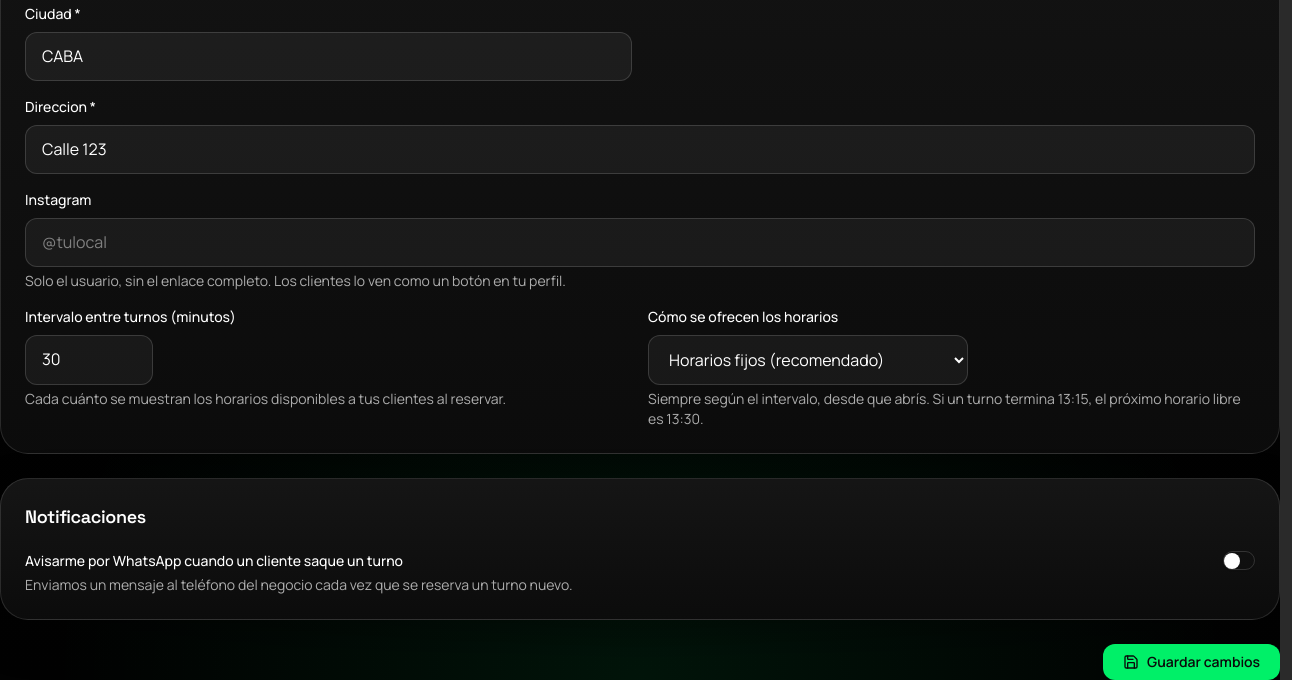
LocalProfilePage WhatsApp notification toggle › shows a Spanish error when the backend rejects the phone
(page scrolled)
What coordinates should you click on to do the following:
click the switch named "Avisarme por WhatsApp cuando un cliente saque un turno"
I would click on:
 (1239, 560)
Its box is [1223,551,1255,570].
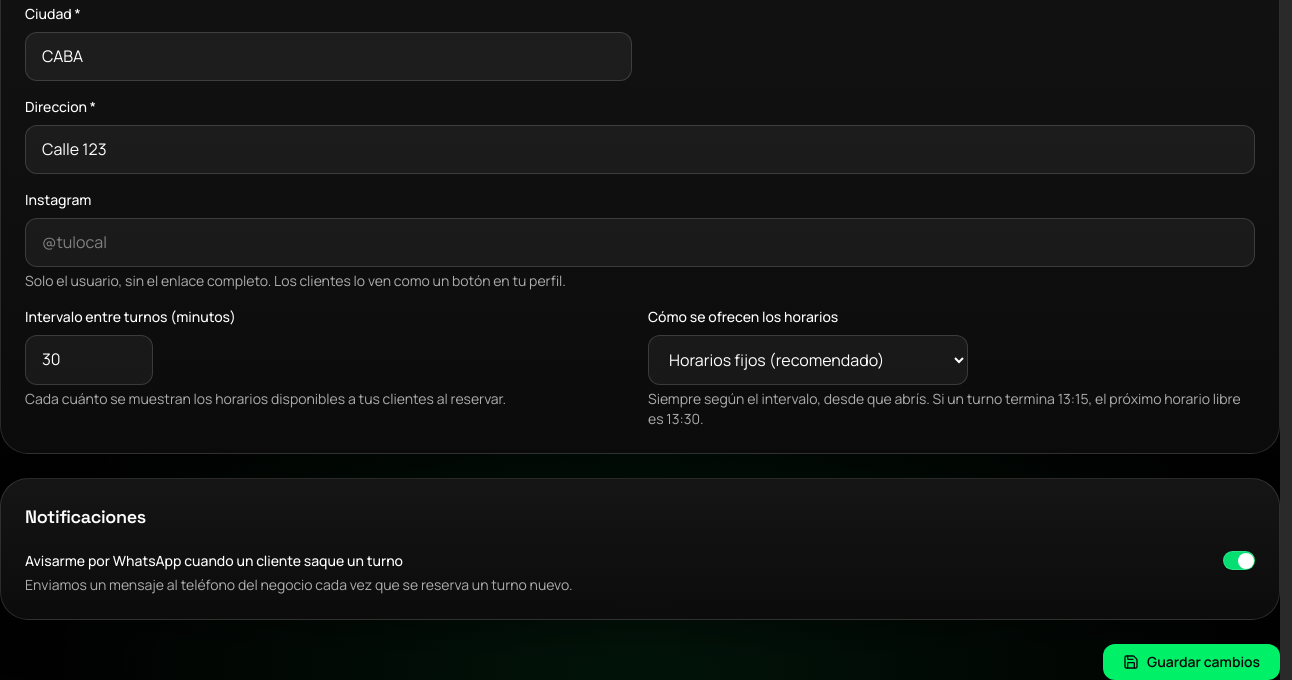
What coordinates should you click on to do the following:
click the button "Guardar cambios"
I would click on:
 (1192, 662)
Its box is [1103,644,1280,679].
(page scrolled)
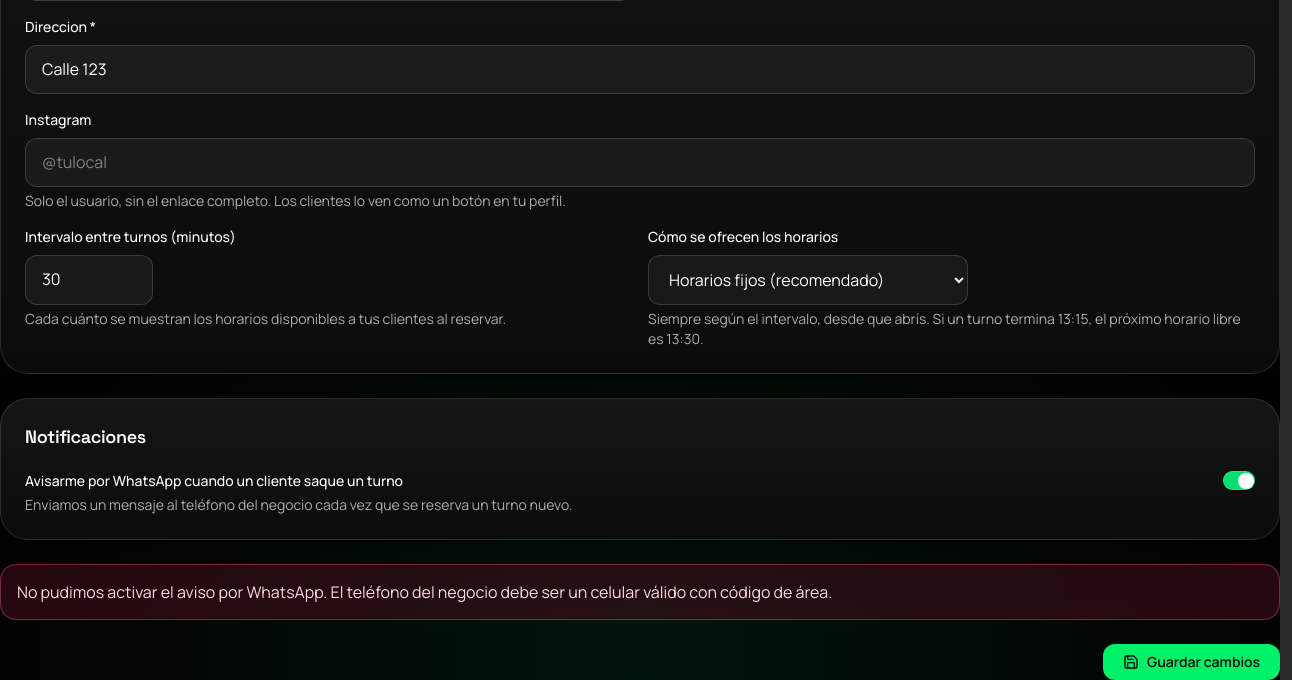
Expected: the text "No pudimos activar el aviso por WhatsApp" is shown, [17,580,832,602]
